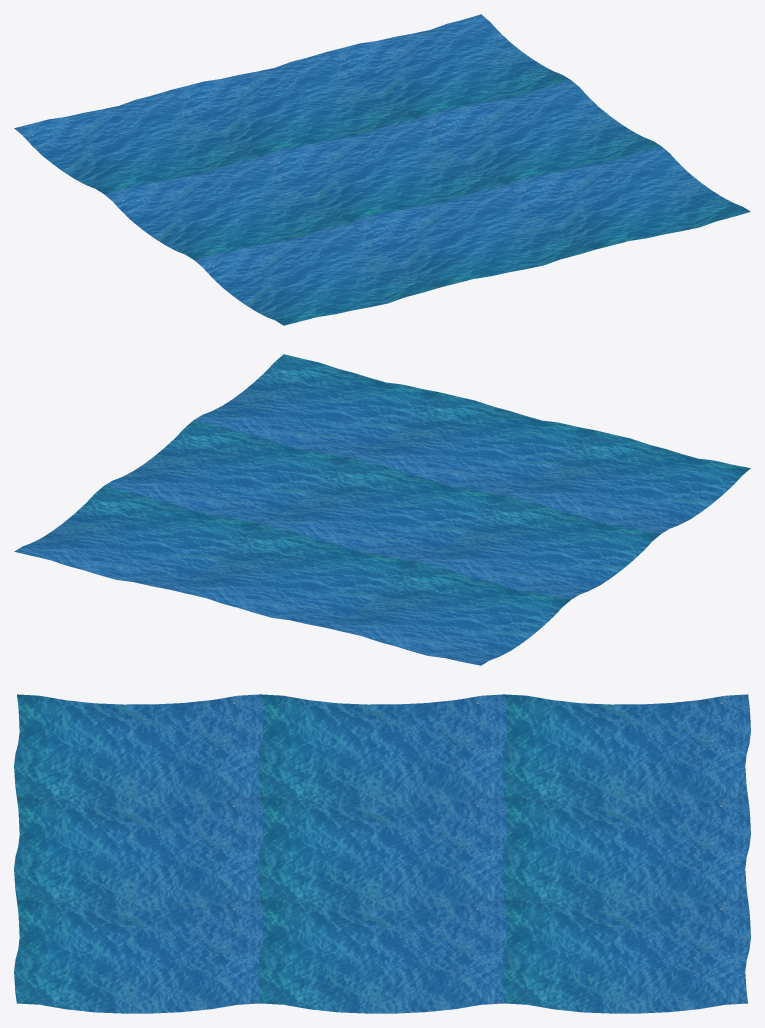
File: ocean_000030.obj
The picture shows the model from 3 angles, top to bottom: view 1: azimuth 30°, elevation 25°; view 2: azimuth 150°, elevation 25°; view 3: azimuth 270°, elevation 25°; orthographic projection. The views are drawn at different scales.
Visible parts, largest first — view 1: Ocean_Plan.001; view 2: Ocean_Plan.001; view 3: Ocean_Plan.001.
Boxes of the visible parts, left/top/right/bottom form: Ocean_Plan.001: left=14, top=14, right=750, bottom=325; Ocean_Plan.001: left=14, top=354, right=750, bottom=665; Ocean_Plan.001: left=14, top=694, right=750, bottom=1013.
Bounding box in the file's own units: 109083 × 1654 × 109812.
Materials: 1 (1 with a texture image).
